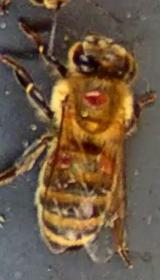varroa_mite: (85, 142, 123, 186), (75, 78, 110, 124), (50, 145, 75, 179)
